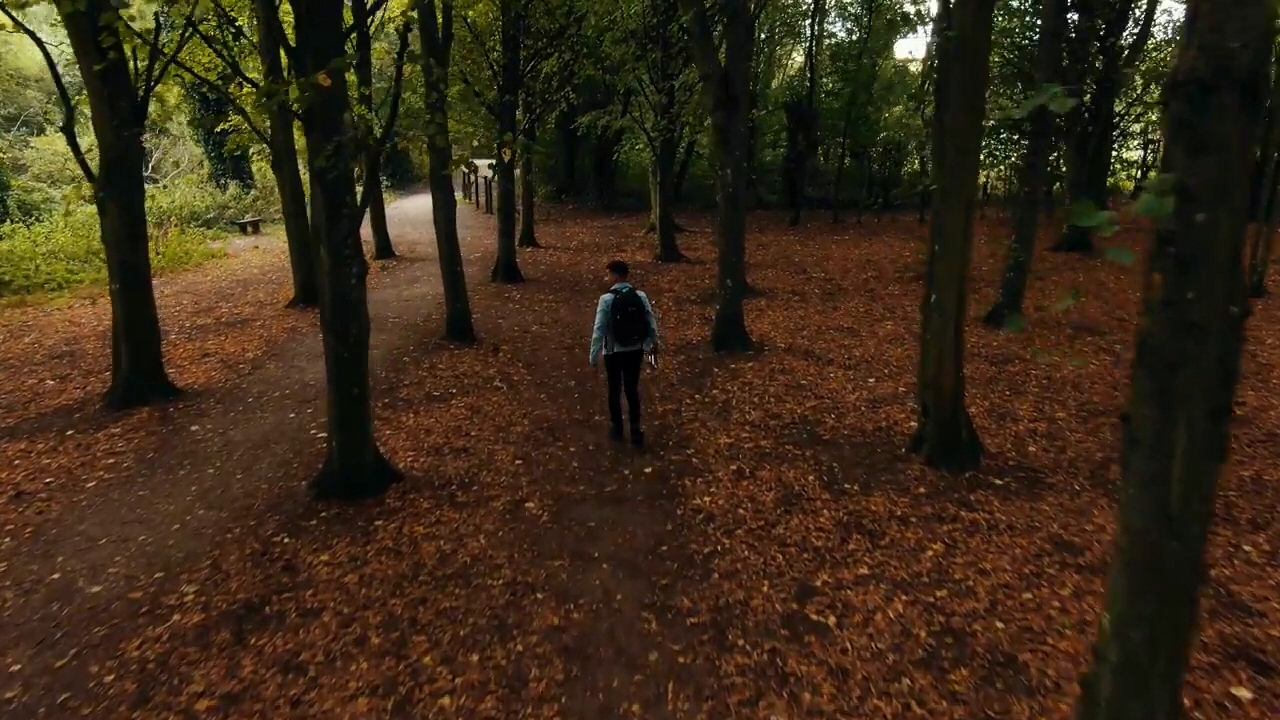insan: (587, 252, 661, 460)
